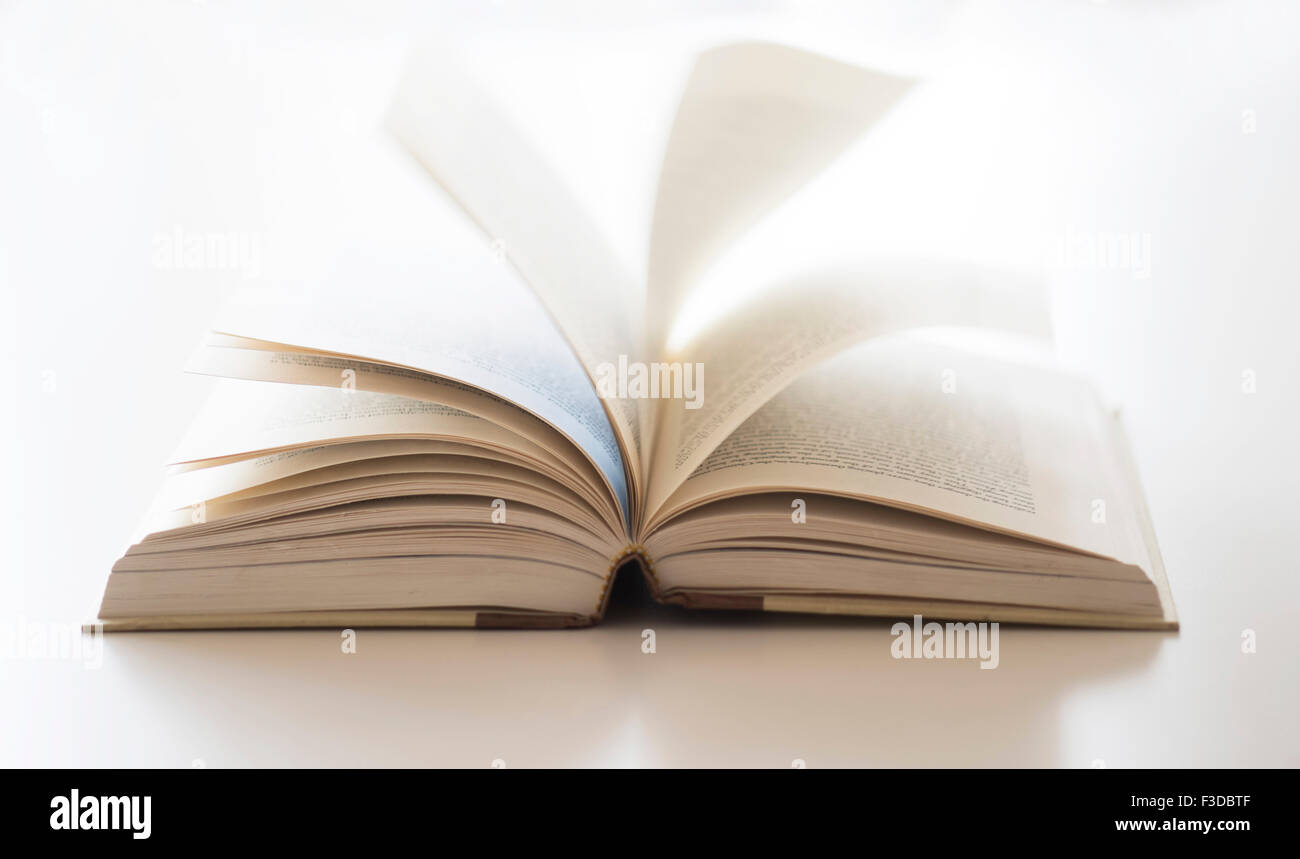book: (200, 58, 1197, 676)
